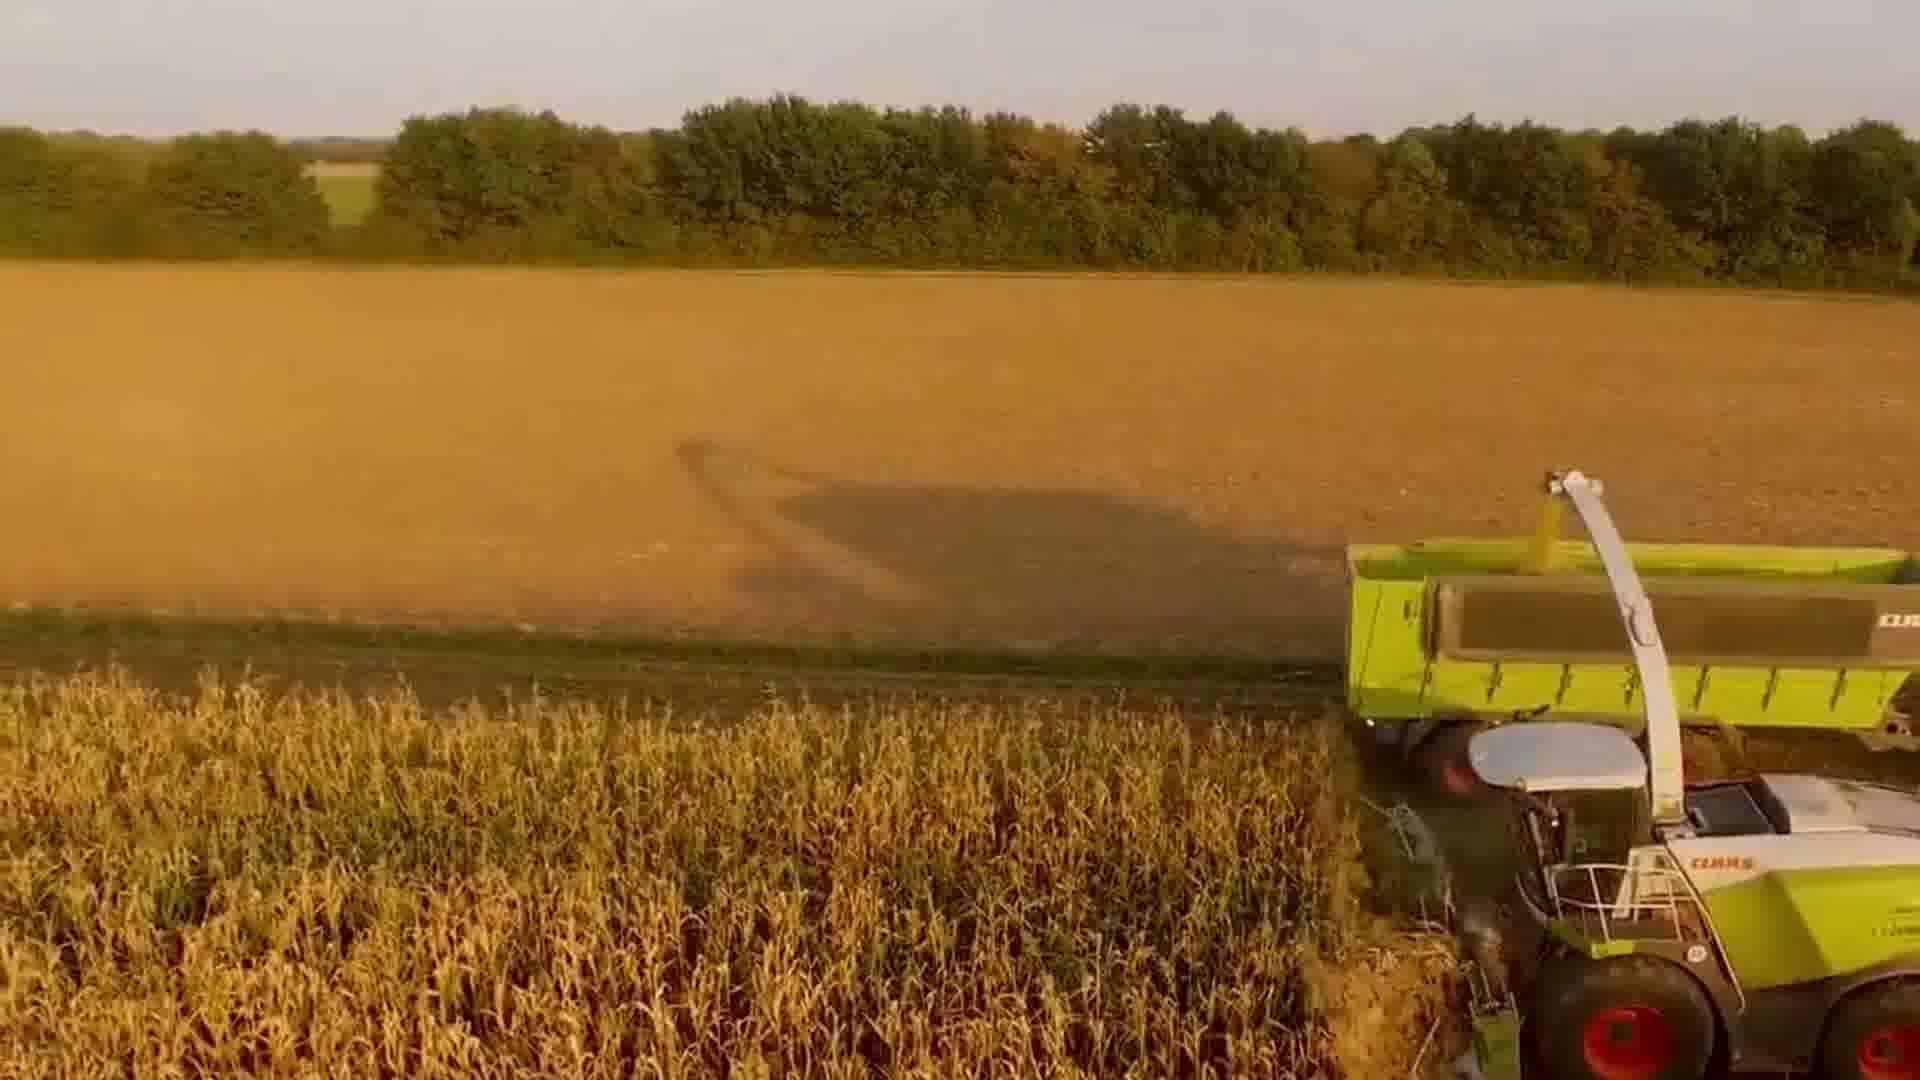combine harvester: (1367, 462, 1920, 1079)
trailer: (1332, 520, 1920, 800)
